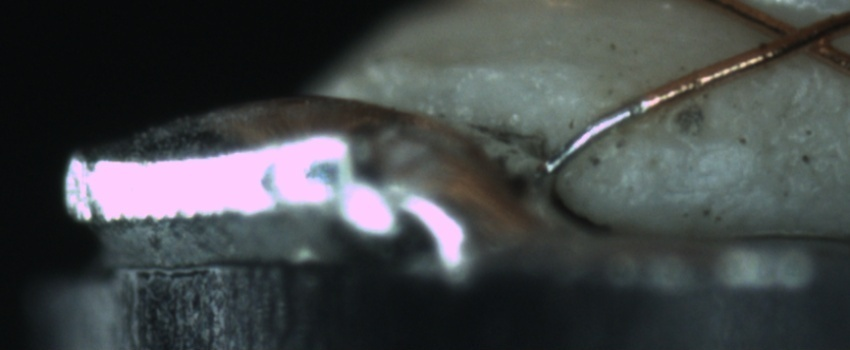CL: (752, 5, 845, 65)
DL: (594, 107, 756, 159)
TS: (550, 97, 646, 172)
TTCW: (547, 89, 671, 174)
